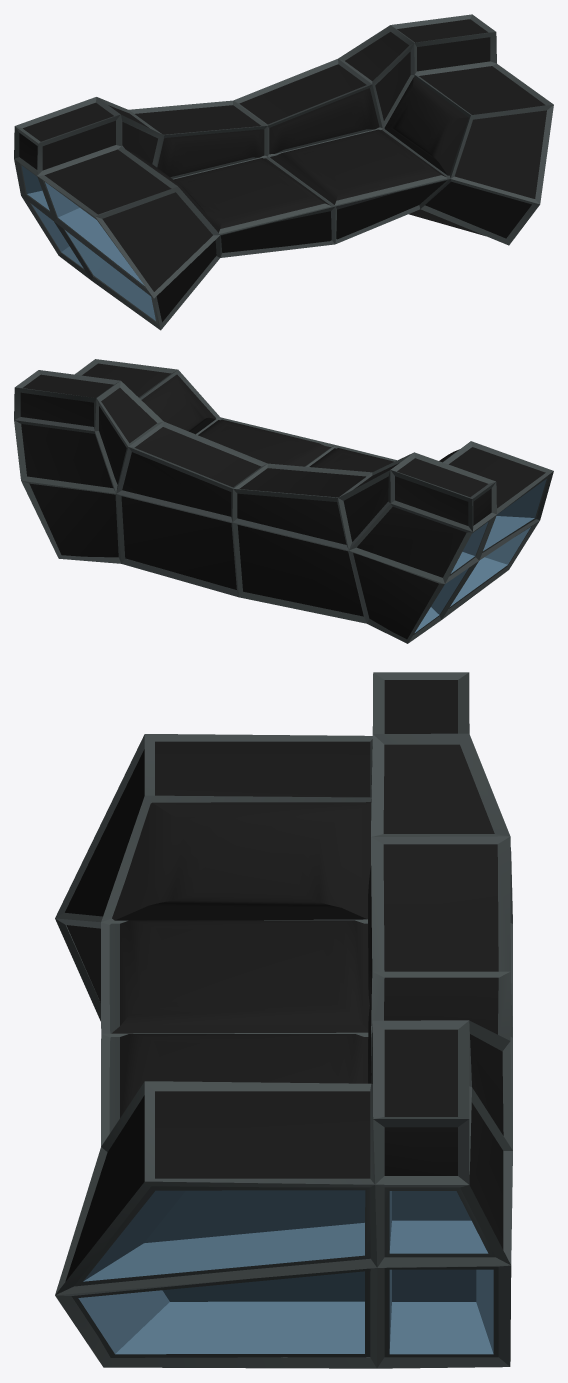
Rendered from future_sofa.fbx.
The picture shows the model from 3 angles, top to bottom: view 1: azimuth 30°, elevation 25°; view 2: azimuth 150°, elevation 25°; view 3: azimuth 270°, elevation 25°; orthographic projection. The views are drawn at different scales.
Parts seen in each view (by area): view 1: sofa; view 2: sofa; view 3: sofa.
Boxes of the visible parts, bbox=[...] form: sofa: bbox=[14, 14, 553, 330]; sofa: bbox=[14, 359, 553, 643]; sofa: bbox=[55, 672, 512, 1368].
Size of the model in its own units: 148 by 49.41 by 63.8.
